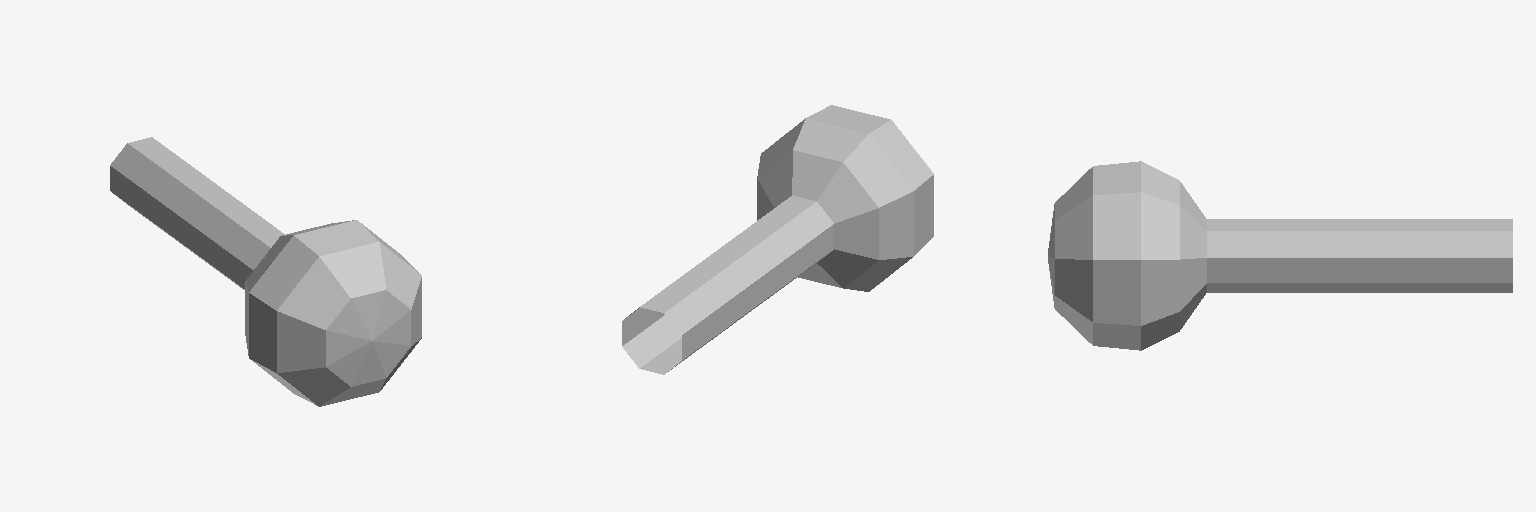
The model's file is cash_register_handle_001.obj.
3 views of the same model, side by side, from view 1: azimuth 30°, elevation 25°; view 2: azimuth 150°, elevation 25°; view 3: azimuth 270°, elevation 25° (orthographic).
Visible parts, largest first — view 1: cash_register_handle.001; view 2: cash_register_handle.001; view 3: cash_register_handle.001.
Boxes of the visible parts, x1=… form: cash_register_handle.001: x1=110, y1=137, x2=421, y2=406; cash_register_handle.001: x1=622, y1=105, x2=933, y2=374; cash_register_handle.001: x1=1048, y1=161, x2=1512, y2=350.
Bounding box in the file's own units: 0.0955 × 0.0946 × 0.2516.